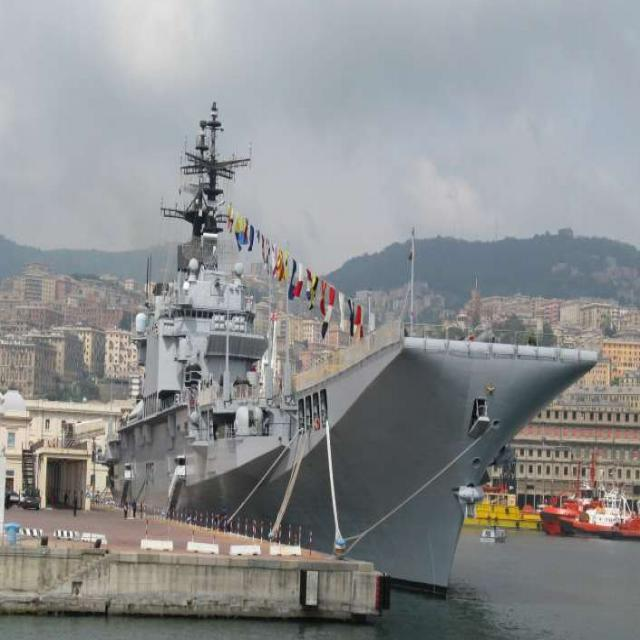Portanaves: (103, 91, 602, 619)
